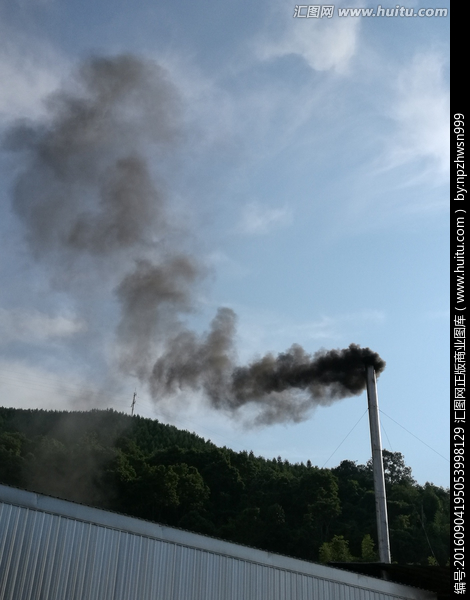smoke: (169, 321, 390, 416)
